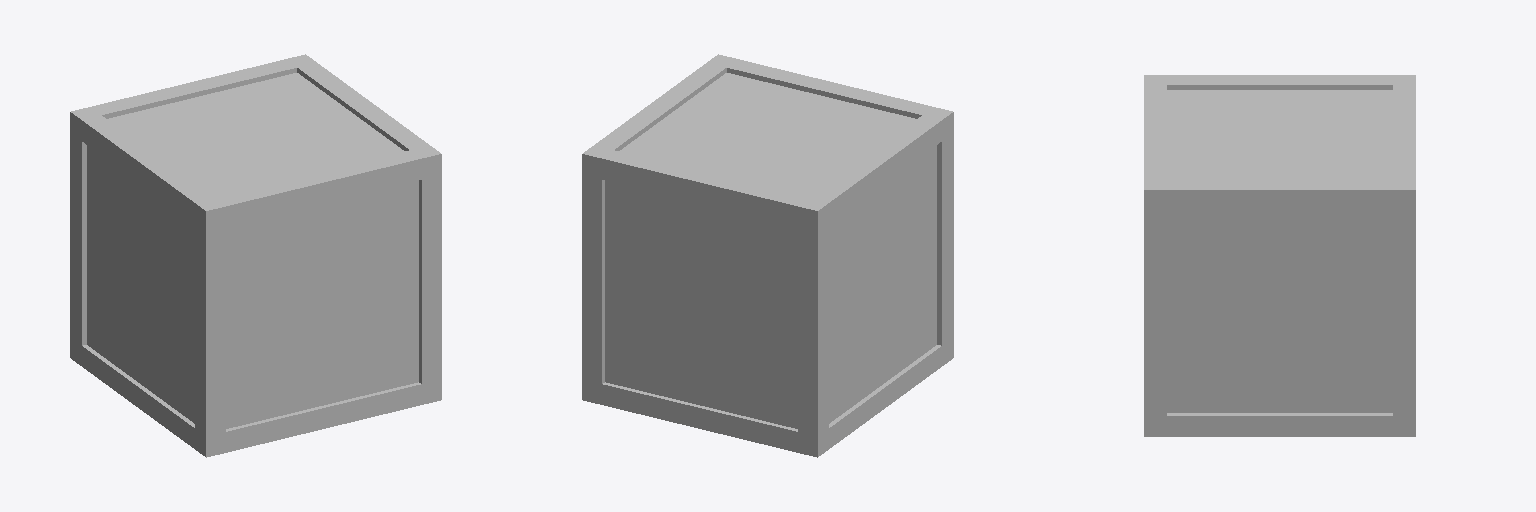
File: crate.obj
3 views of the same model, side by side, from view 1: azimuth 30°, elevation 25°; view 2: azimuth 150°, elevation 25°; view 3: azimuth 270°, elevation 25° (orthographic).
Visible parts, largest first — view 1: Wood_container1; view 2: Wood_container1; view 3: Wood_container1.
Part boxes in pixels (x1,y1,x2,y2): Wood_container1: (70, 54, 441, 457); Wood_container1: (582, 54, 953, 457); Wood_container1: (1144, 75, 1415, 436).
Size of the model in its own units: 200 by 200 by 200.